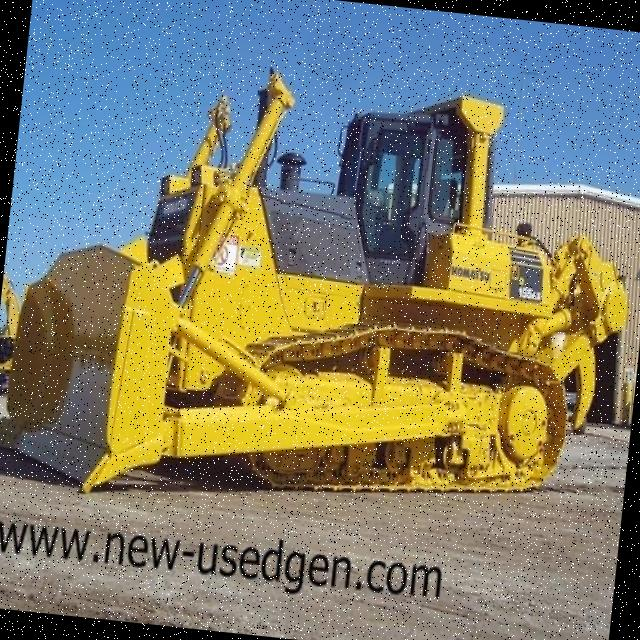Bulldozer: (0, 28, 639, 556)
